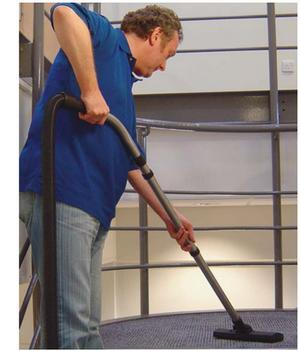person: (20, 3, 197, 351)
